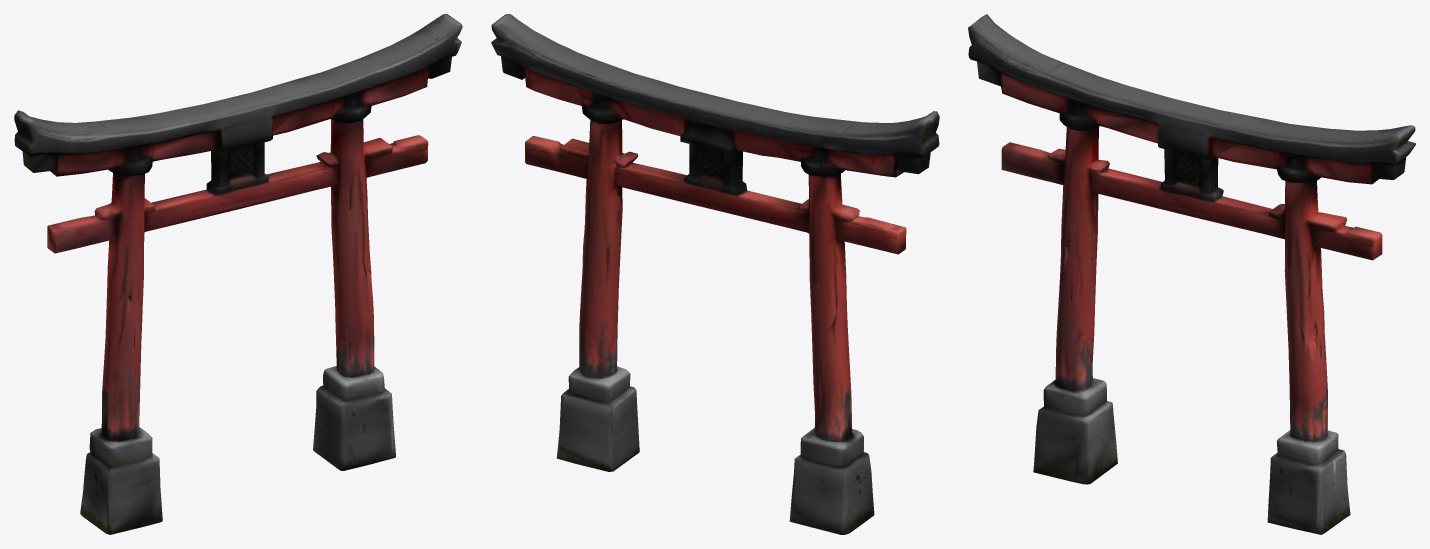
The model's file is torii_gate.glb.
3 renders of one model, left to right at view 1: azimuth 30°, elevation 25°; view 2: azimuth 150°, elevation 25°; view 3: azimuth 330°, elevation 25°, orthographic.
Parts seen in each view (by area): view 1: torii_gate; view 2: torii_gate; view 3: torii_gate.
Part boxes in pixels (x1,y1,x2,y2): torii_gate: [14, 14, 462, 534]; torii_gate: [491, 14, 939, 534]; torii_gate: [968, 14, 1415, 534].
Bounding box in the file's own units: 6.4 × 6 × 0.8015.
Materials: 1 (1 with a texture image).
